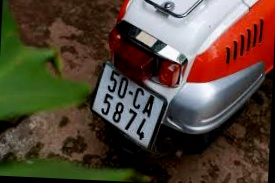Bien-so: (86, 66, 174, 158)
